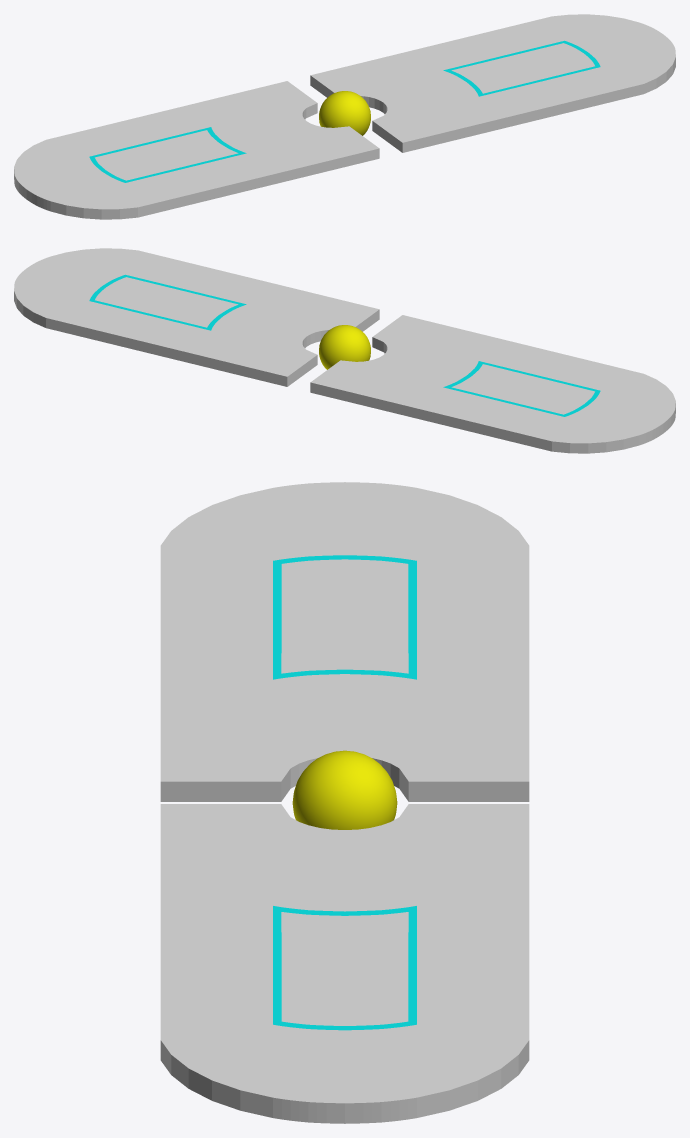
The model's file is table.fbx.
3 renders of one model, top to bottom at view 1: azimuth 30°, elevation 25°; view 2: azimuth 150°, elevation 25°; view 3: azimuth 270°, elevation 25°, orthographic. The views are drawn at different scales.
Parts seen in each view (by area): view 1: Cube; view 2: Cube; view 3: Cube.
Part boxes in pixels (box(x1,y1,x2,y2)): Cube: box(14, 14, 675, 219); Cube: box(14, 248, 675, 453); Cube: box(160, 482, 529, 1123).
Bounding box in the file's own units: 1968 × 140 × 494.
